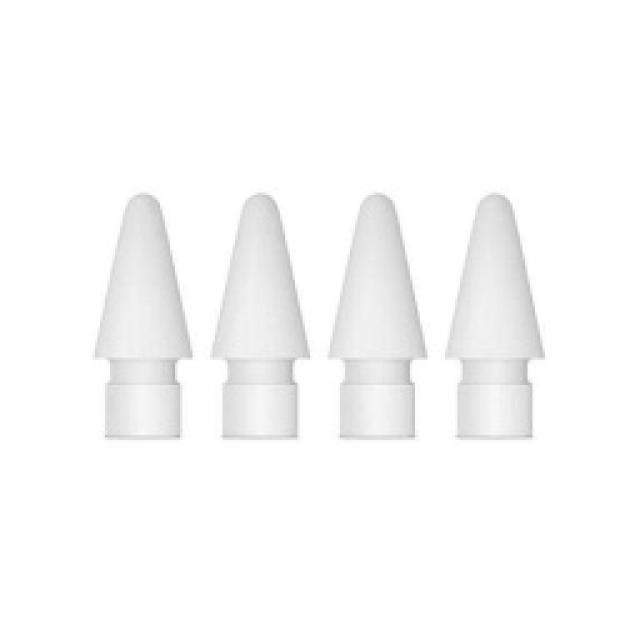pencil: (90, 182, 548, 442)
